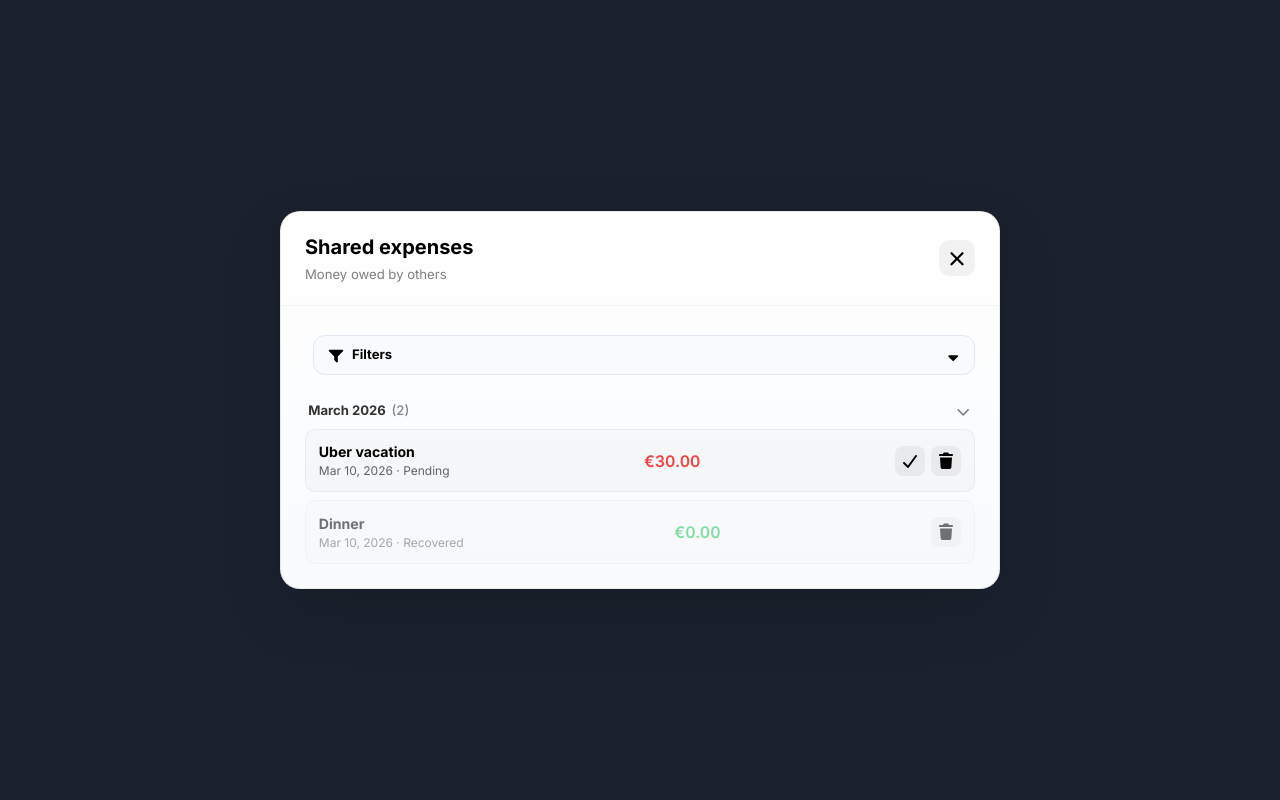
Scenario: SharedExpensesPanel › filters the list by status
Click the button "Filters". click: (372, 354)
box: left=313, top=335, right=975, bottom=375
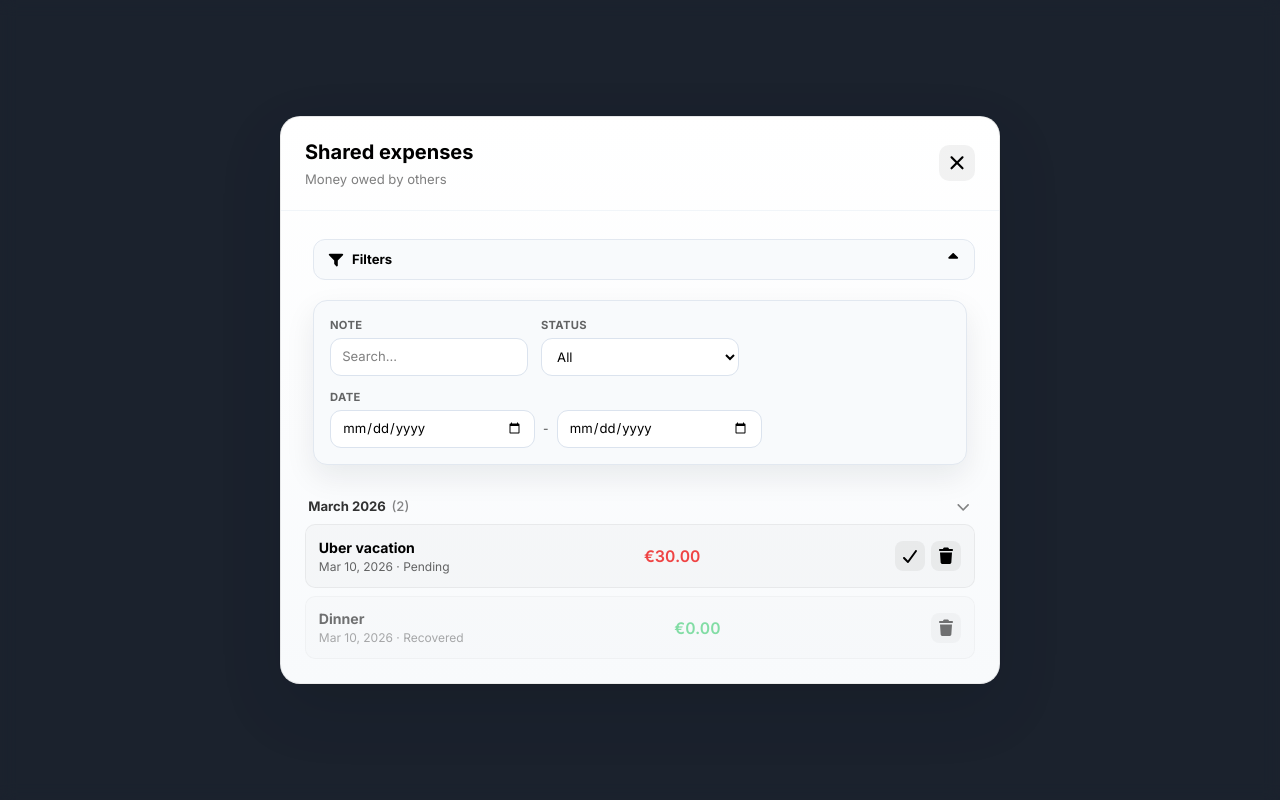
Select "Recovered" in the dropdown showing "All". click: (640, 357)
box: left=541, top=338, right=739, bottom=376
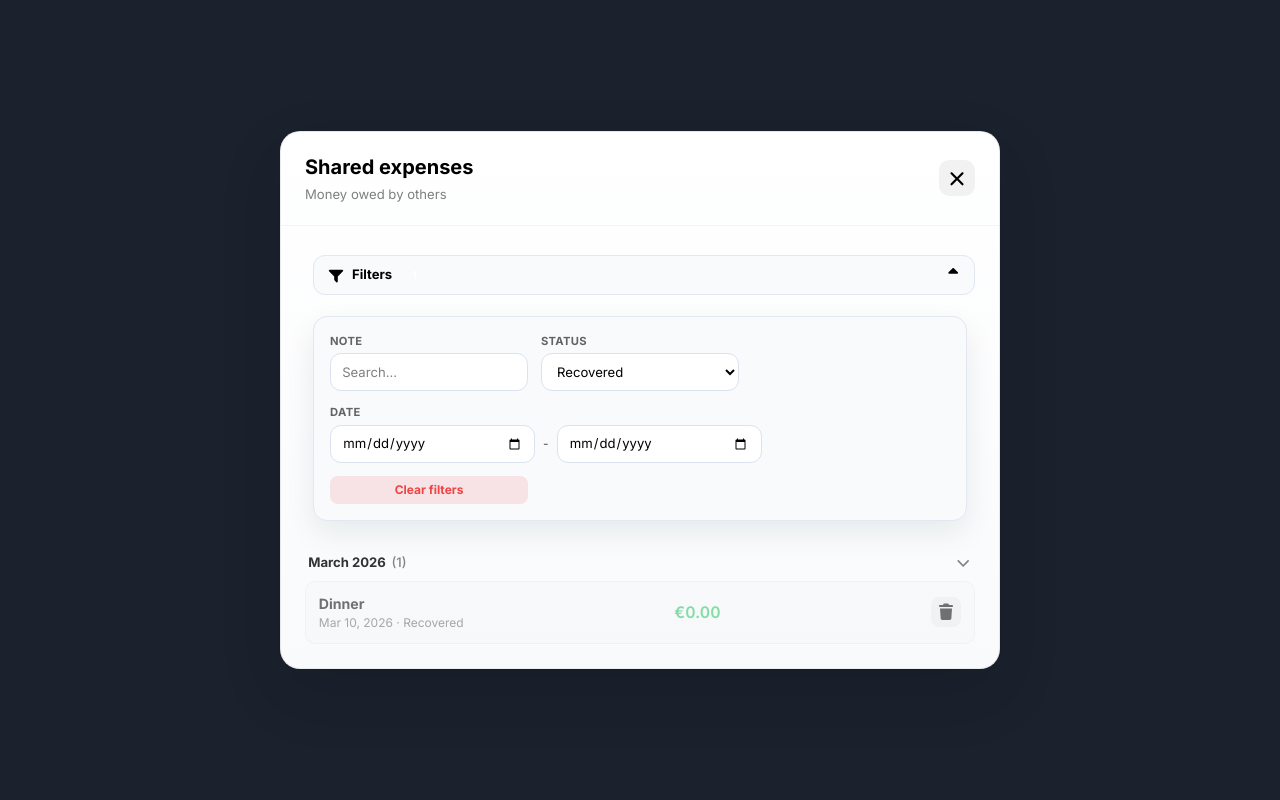
Expected: the text "Dinner" is shown, left=319, top=595, right=364, bottom=612
Expected: the text "Uber vacation" is gone
